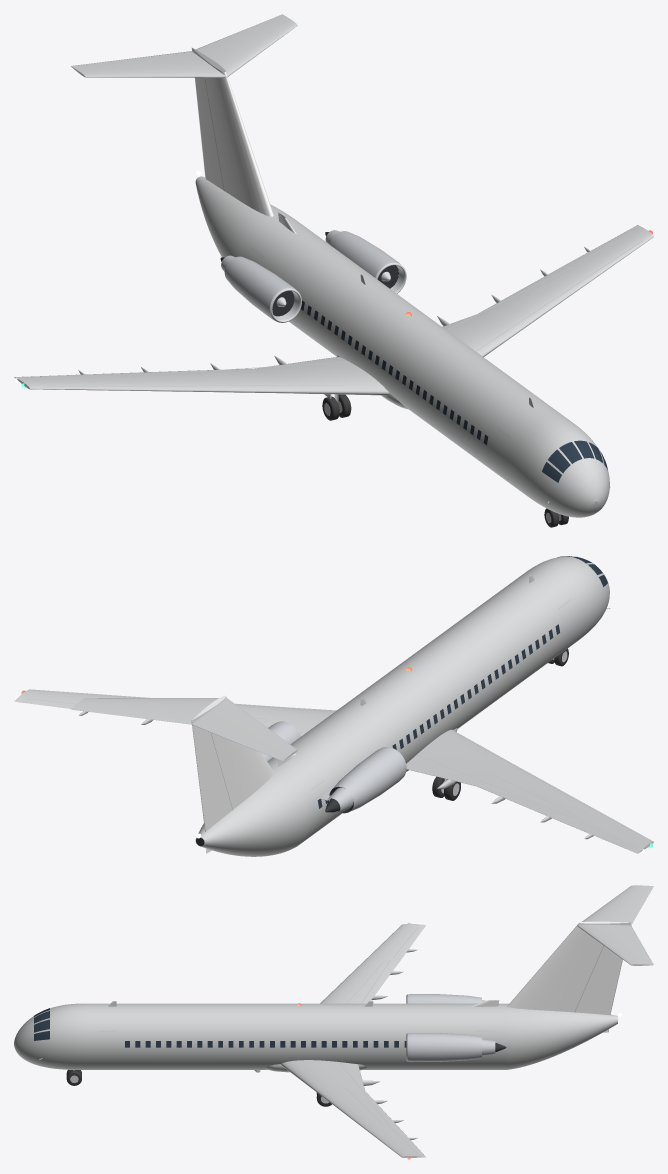
The picture shows the model from 3 angles, top to bottom: view 1: azimuth 30°, elevation 25°; view 2: azimuth 150°, elevation 25°; view 3: azimuth 270°, elevation 25°; orthographic projection. The views are drawn at different scales.
Visible parts, largest first — view 1: airframe, gear; view 2: airframe, gear; view 3: airframe.
Boxes of the visible parts, x1,y1,x2,y2 form: airframe: (14,14,653,517); gear: (322,394,568,527); airframe: (14,556,653,856); gear: (432,648,568,800); airframe: (14,885,653,1159).
Size of the model in its own units: 28.41 by 9.07 by 32.75.
